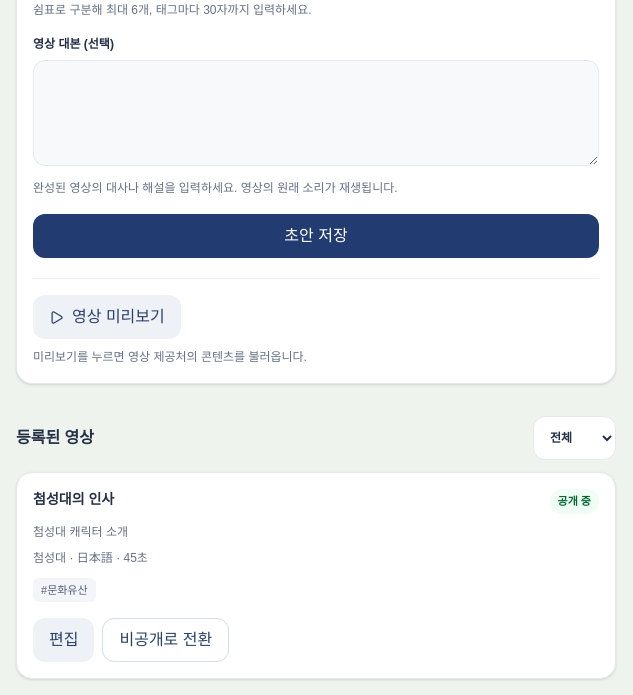
Scenario: prepared heritage video administration › edits existing metadata and preserves its published state until the response arrives
(page scrolled)
Click the button "편집".
click(64, 640)  # box [33,618,94,662]
(page scrolled)
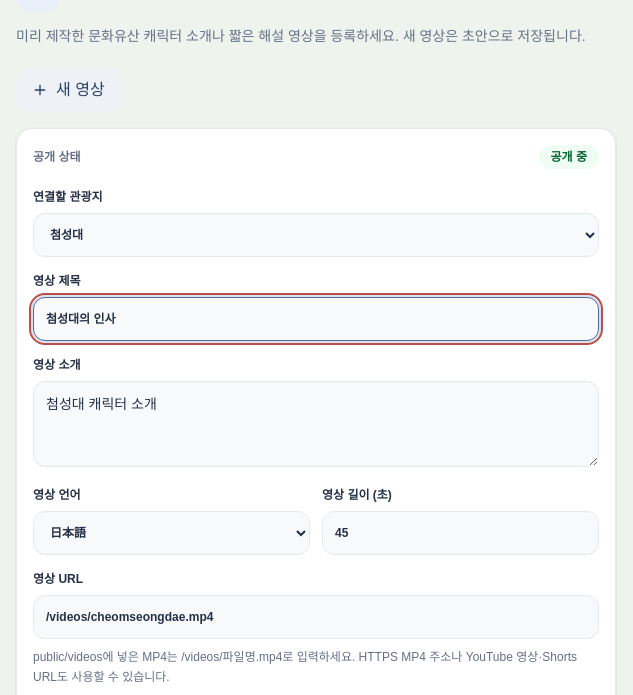
Now the dropdown labelled "영상 언어" shows "日本語", box [33,511,310,555]
Replace the text in the field labelled "영상 제목" with "새 소개" at (316, 319), box [33,297,599,341]
(page scrolled)
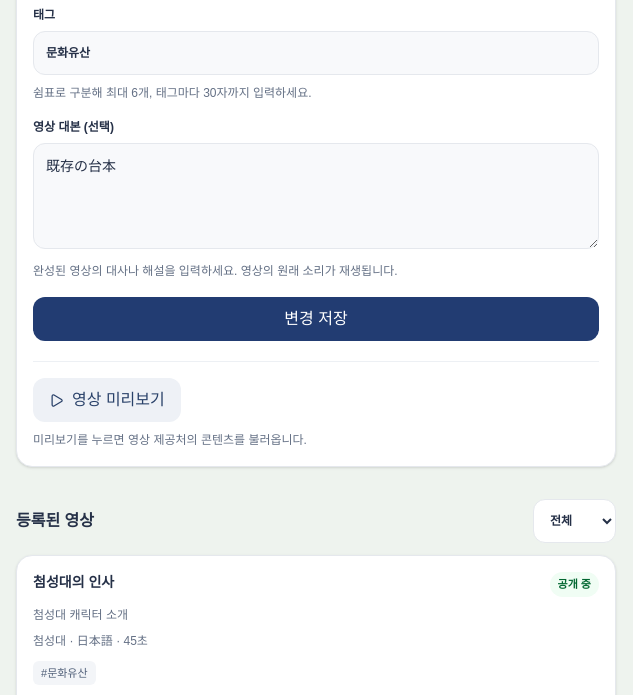
Click the button "변경 저장".
click(316, 319)  # box [33,297,599,341]
(page scrolled)
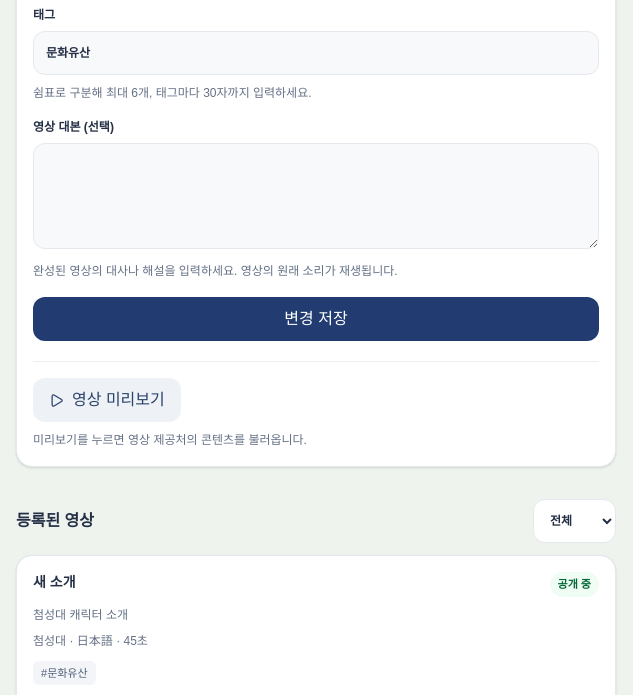
Now the heading "새 소개" is shown, box [33,572,76,592]
